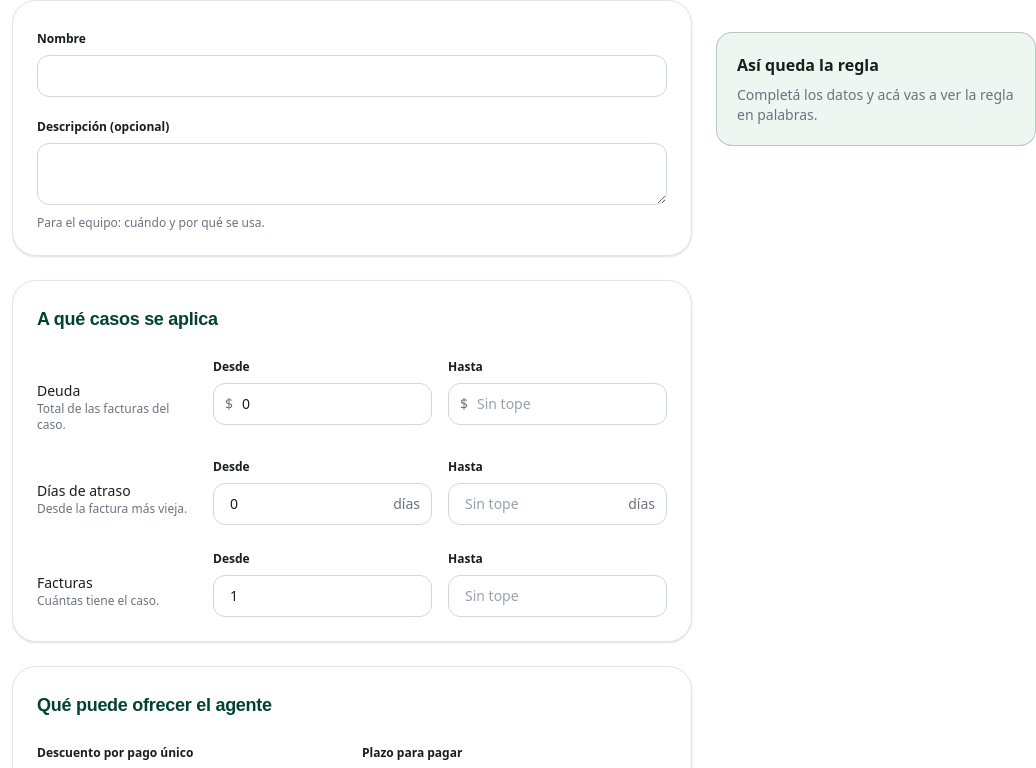
Test: RuleEditor › si se pisa con otra regla activa, muestra el aviso del backend y no sale de la pantalla
Type "Mora media" into the field labelled "Nombre" at (352, 76), box x1=37 y1=55 x2=667 y2=97
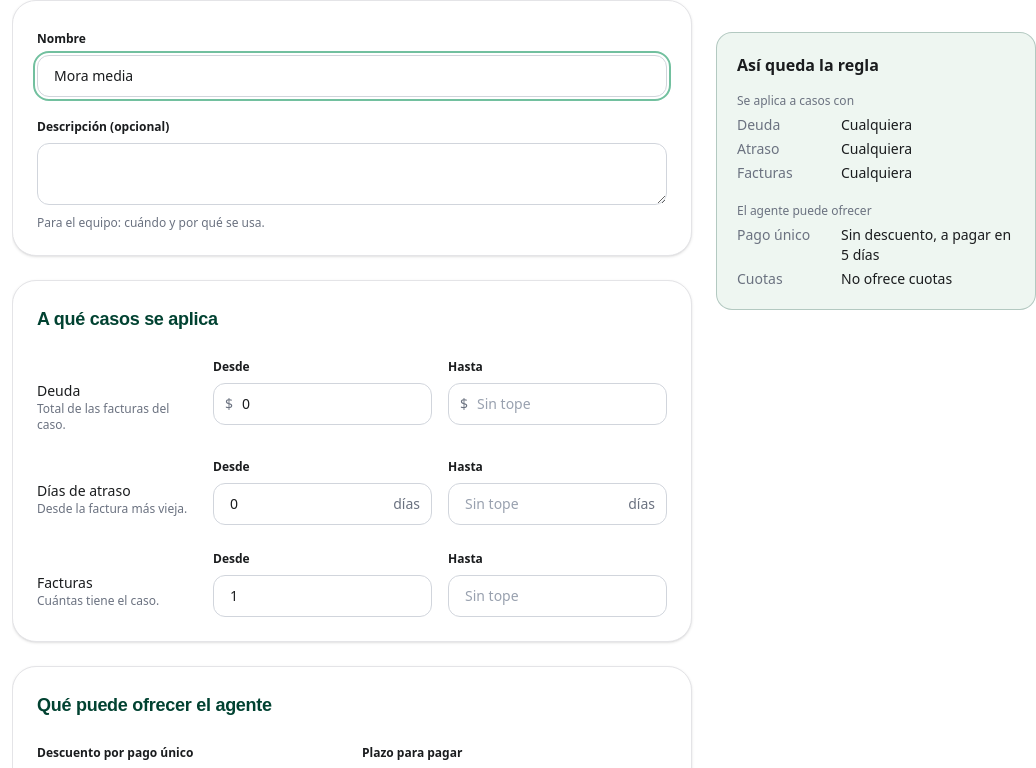
Type "500.000" into the field labelled "Hasta" in the row of "Total de las facturas del caso." at (558, 404), box x1=448 y1=383 x2=667 y2=425
(page scrolled)
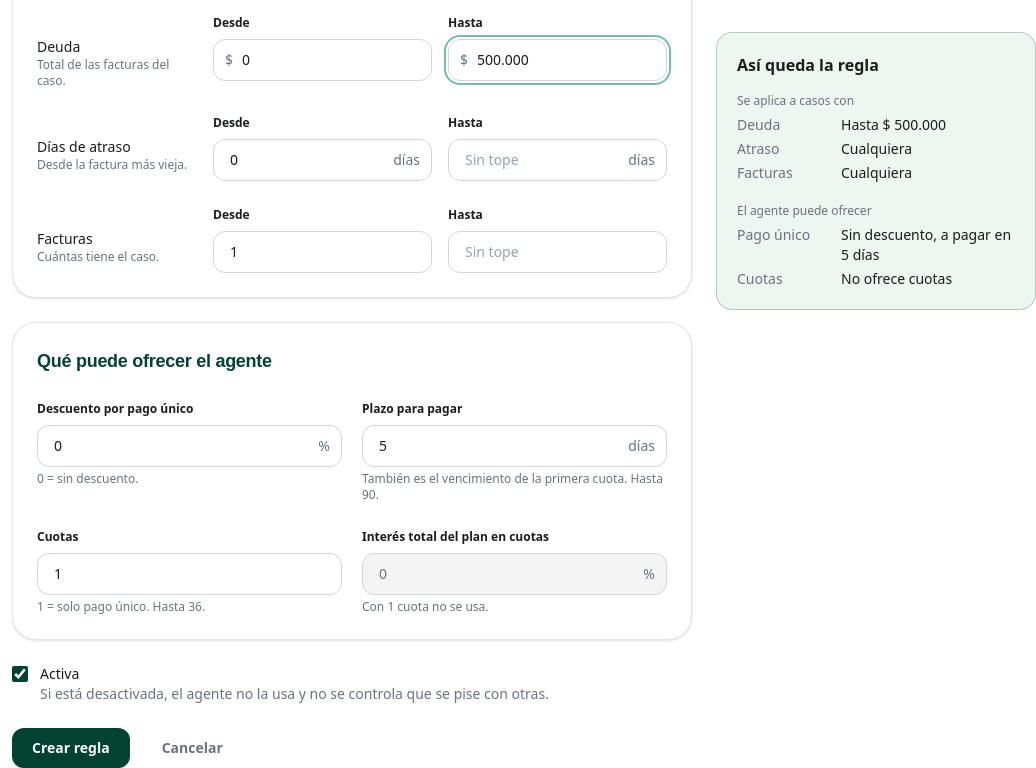
Replace the text in the field labelled "Descuento por pago único" with "12,5" at (190, 446), box x1=37 y1=425 x2=342 y2=467
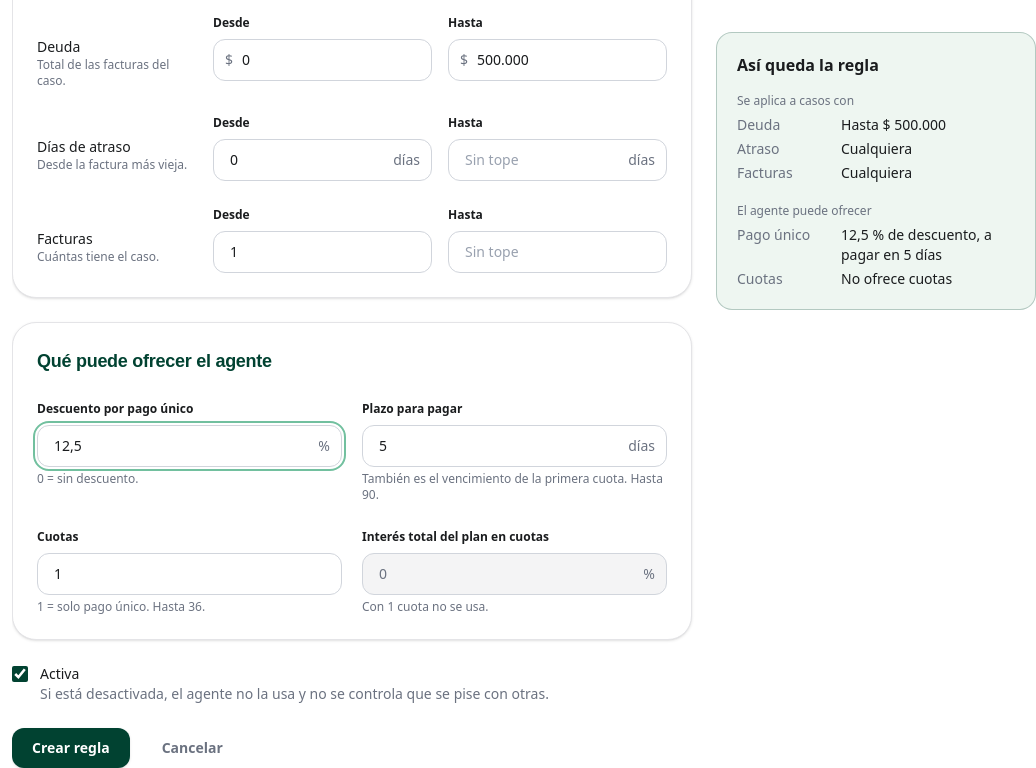
Replace the text in the field labelled "Cuotas" with "3" at (190, 574), box x1=37 y1=553 x2=342 y2=595
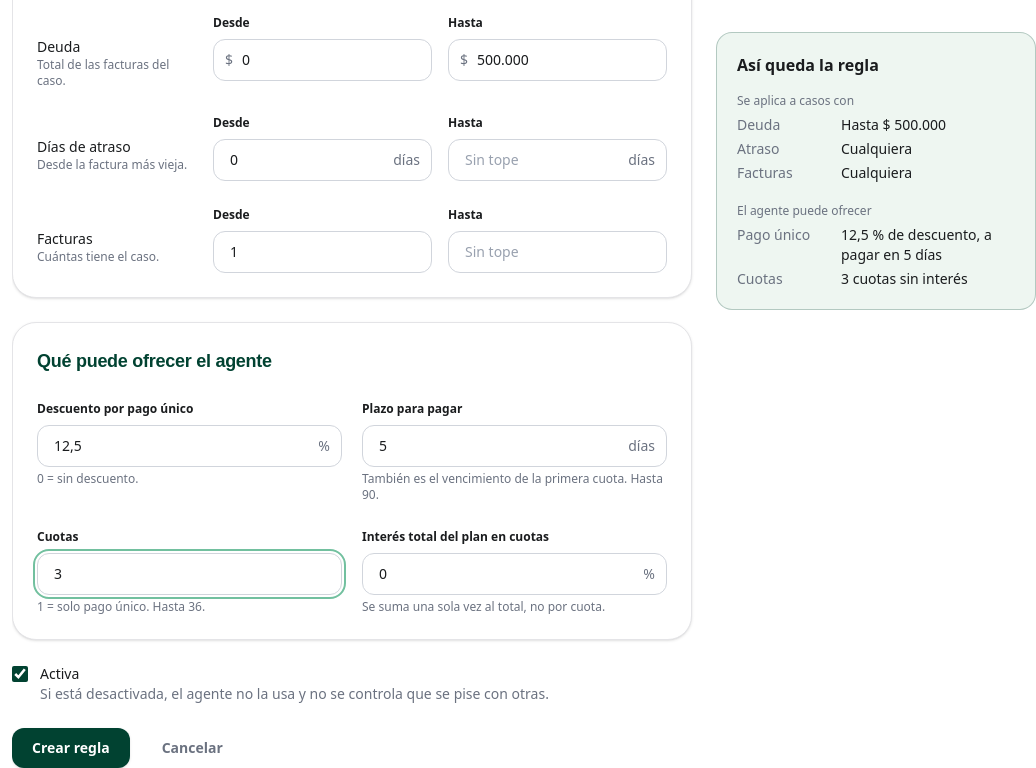
Click the button "Crear regla" at (71, 748), box x1=12 y1=728 x2=130 y2=767
(page scrolled)
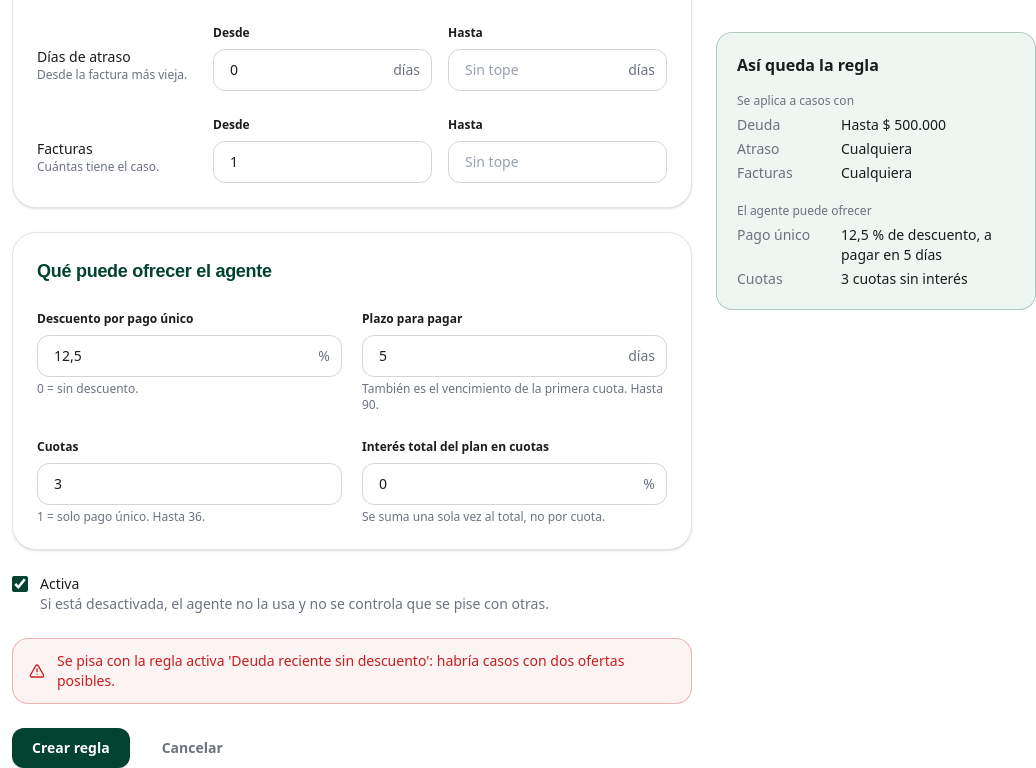
Expected: the message shows "Se pisa con la regla activa", x1=57 y1=651 x2=624 y2=690
